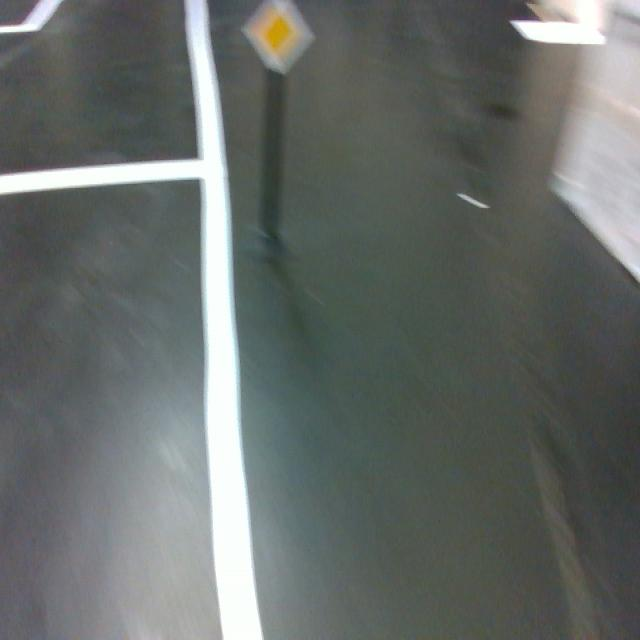priority-sign: (240, 0, 316, 76)
